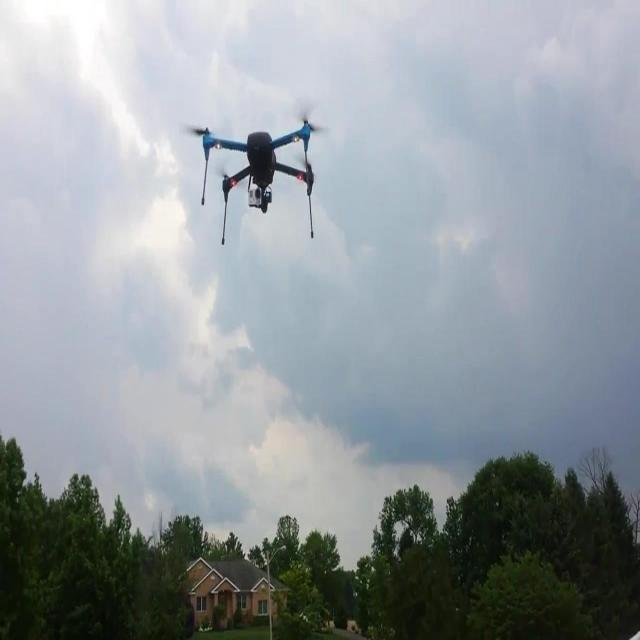UAV: (184, 101, 330, 246)
